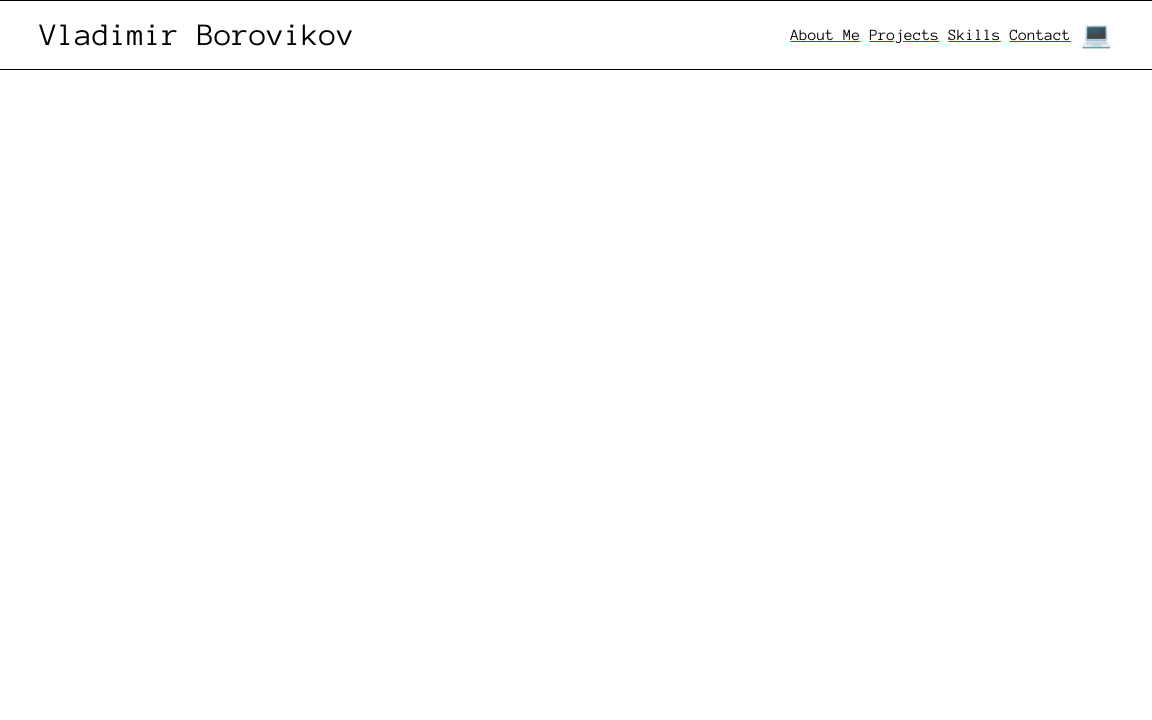
Header › cycles through theme modes when toggle button is clicked
The width and height of the screenshot is (1152, 720).
Click the button "💻": [1096, 35] box [1081,22,1112,48]
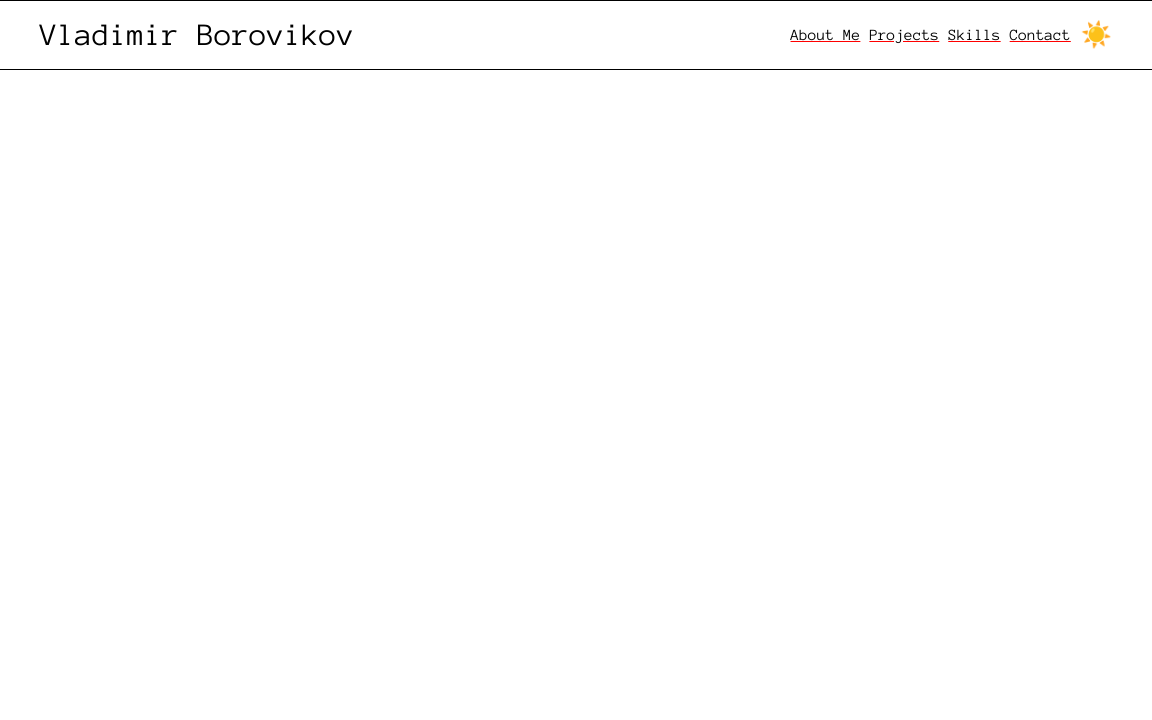
Expected: the button "☀️" is shown
Click the button "☀️": [1096, 35] box [1081,22,1112,48]
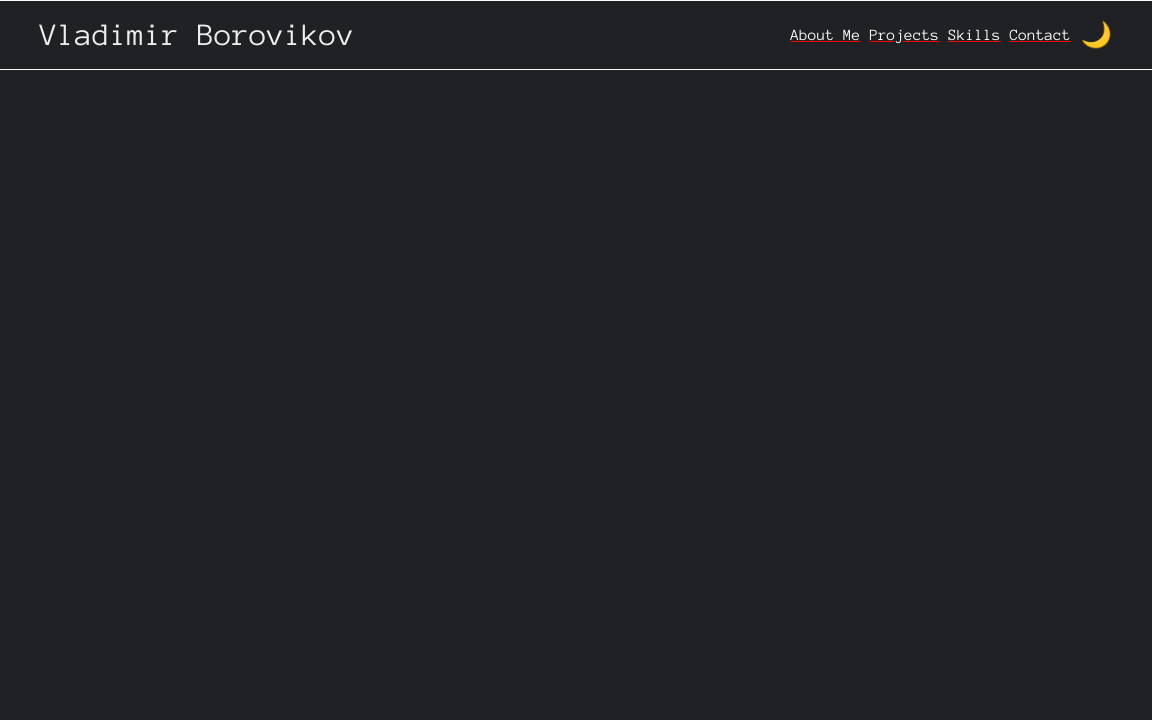
Expected: the button "🌙" is shown
Click the button "🌙": [1096, 35] box [1081,22,1112,48]
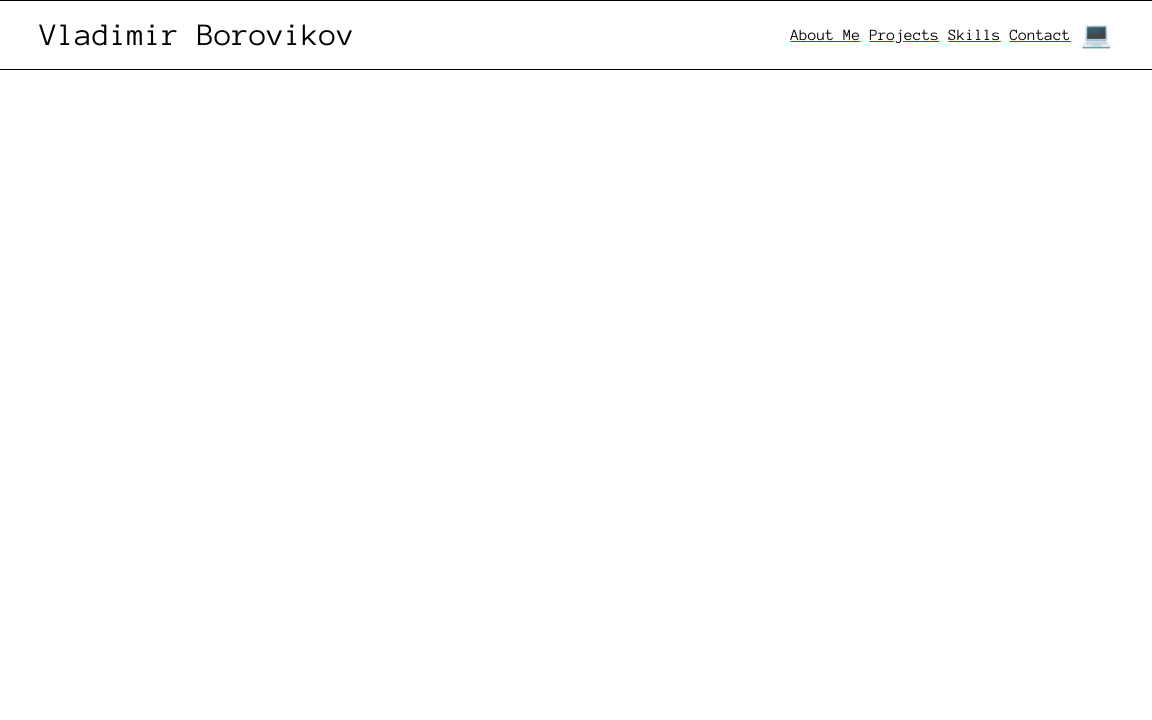
Expected: the button "💻" is shown, [1081,22,1112,48]
